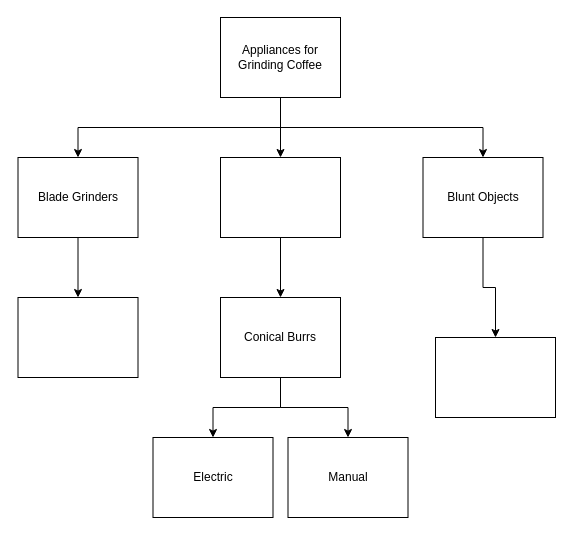
This 573x535 diagram has some shape labels left out. Each missing label, with the centre of its shape:
Burr Grinders: [280,197]
Electric Blade Grinder: [77,337]
Mortar and Pestle: [495,377]
